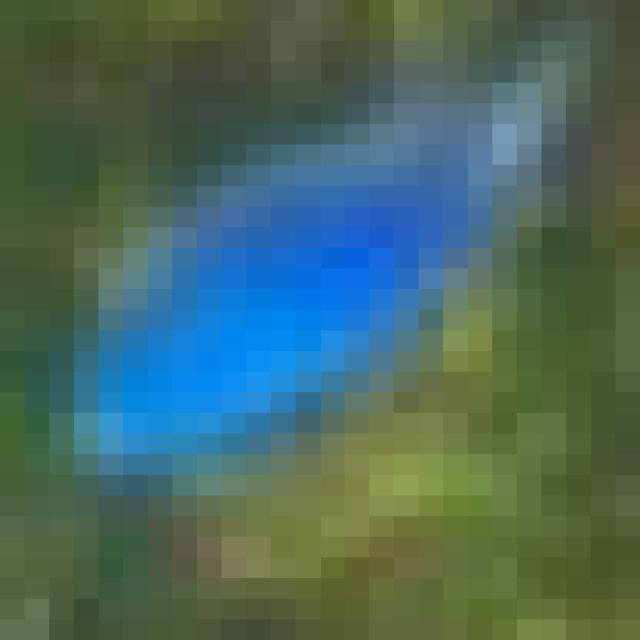fish: (24, 0, 640, 620)
